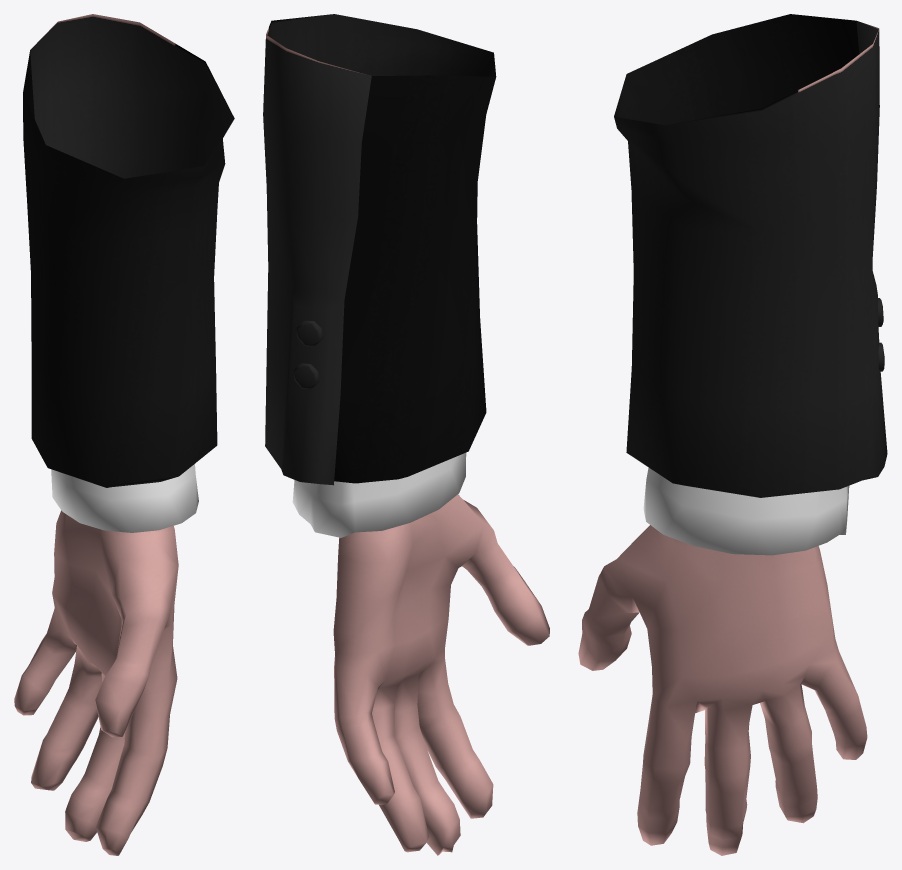
Rendered from armdownleft.fbx.
3 renders of one model, left to right at view 1: azimuth 30°, elevation 25°; view 2: azimuth 150°, elevation 25°; view 3: azimuth 270°, elevation 25°, orthographic. The views are drawn at different scales.
Parts seen in each view (by area): view 1: armdownleft; view 2: armdownleft; view 3: armdownleft.
Boxes of the visible parts, left/top/right/bottom form: armdownleft: left=14, top=14, right=234, bottom=855; armdownleft: left=263, top=14, right=549, bottom=855; armdownleft: left=578, top=14, right=887, bottom=855.
Bounding box in the file's own units: 7.35 × 29.35 × 9.64.
